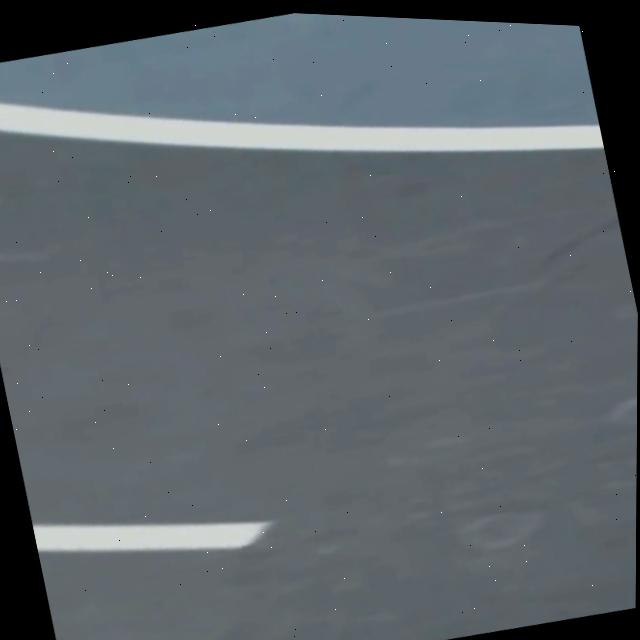center: (32, 519, 271, 549)
left: (0, 100, 603, 149)
